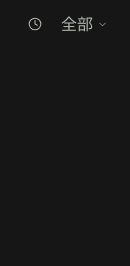
the session filter › reads the current filter on its button and lists every filter with its count
What coordinates should you click on to do the following:
click the button with class "session-filter-trigger"
I would click on:
 (84, 24)
Its box is [51,12,118,36].
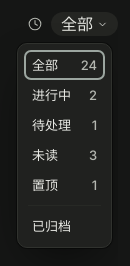
Check: the text "2" is shown, box [81,57,97,73]
Check: the text "1" is shown, box [92,117,97,133]
Check: the text "3" is shown, box [89,147,97,163]
